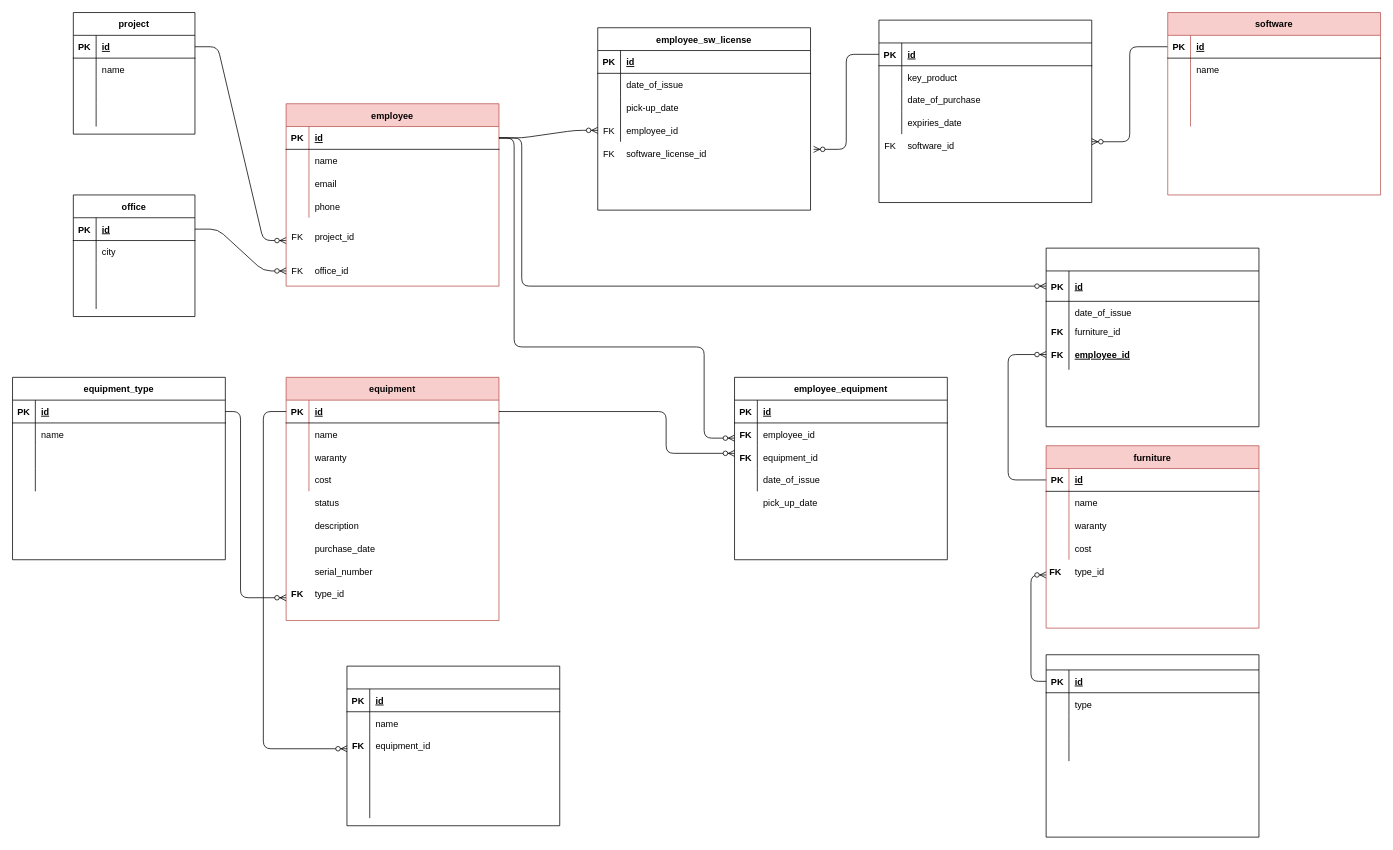
The diagram is 1393 pixels wide and 850 high, and some of its shapes have lost their labels. Here are the shapes that lost their labels. From the top down, the box of each, then its label:
(878, 19, 1092, 203): software_license
(1045, 247, 1259, 427): employee_furniture
(346, 665, 560, 826): equipment_part
(1045, 654, 1259, 837): furniture_type
